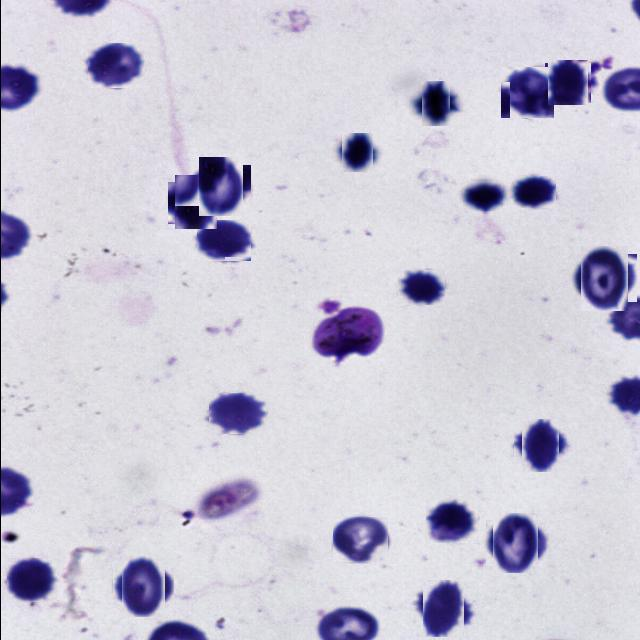difficult: (311, 306, 382, 361)
red blood cell: (576, 250, 632, 306), (488, 516, 542, 570), (500, 67, 554, 119), (116, 560, 169, 612), (194, 161, 246, 213), (332, 517, 388, 563), (87, 43, 144, 88), (418, 583, 468, 633), (208, 393, 266, 434), (196, 220, 251, 262), (170, 178, 218, 226), (425, 499, 477, 543), (6, 558, 56, 602), (516, 422, 562, 468), (546, 62, 588, 105), (397, 270, 444, 305), (513, 175, 555, 208), (416, 86, 453, 122), (338, 134, 374, 170), (462, 180, 502, 210)
